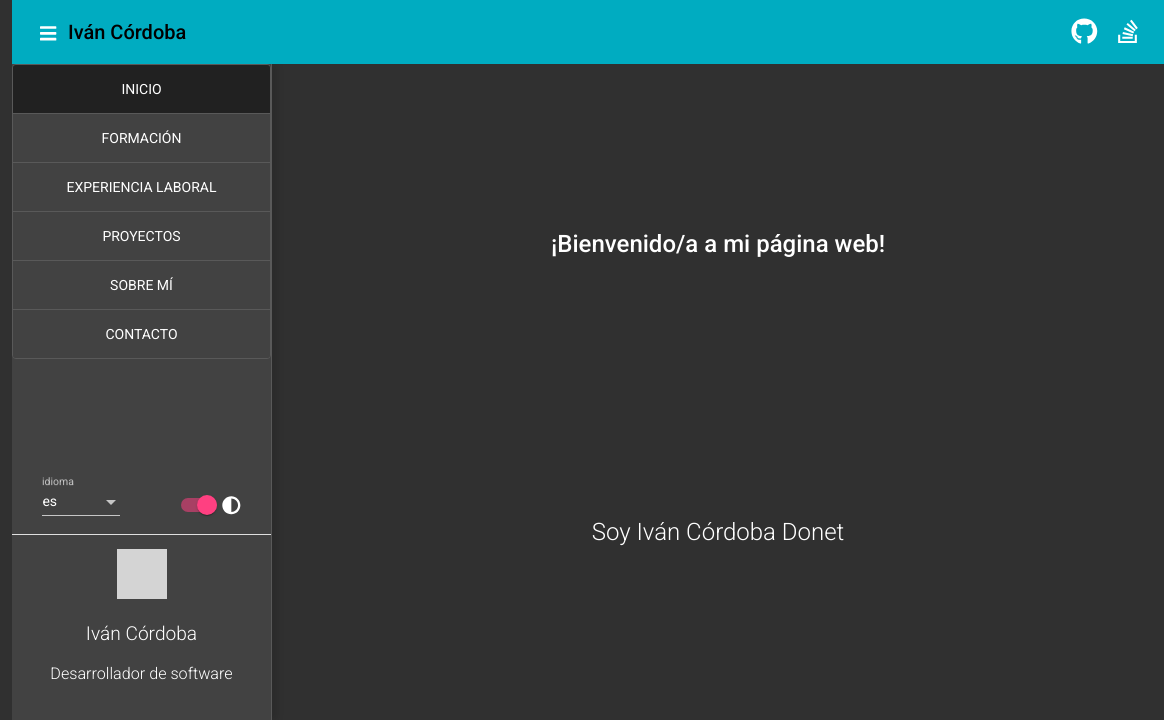
App › should change language to catalan
Click the dropdown with test id "languageSelect": (50, 501) [42,494,120,510]
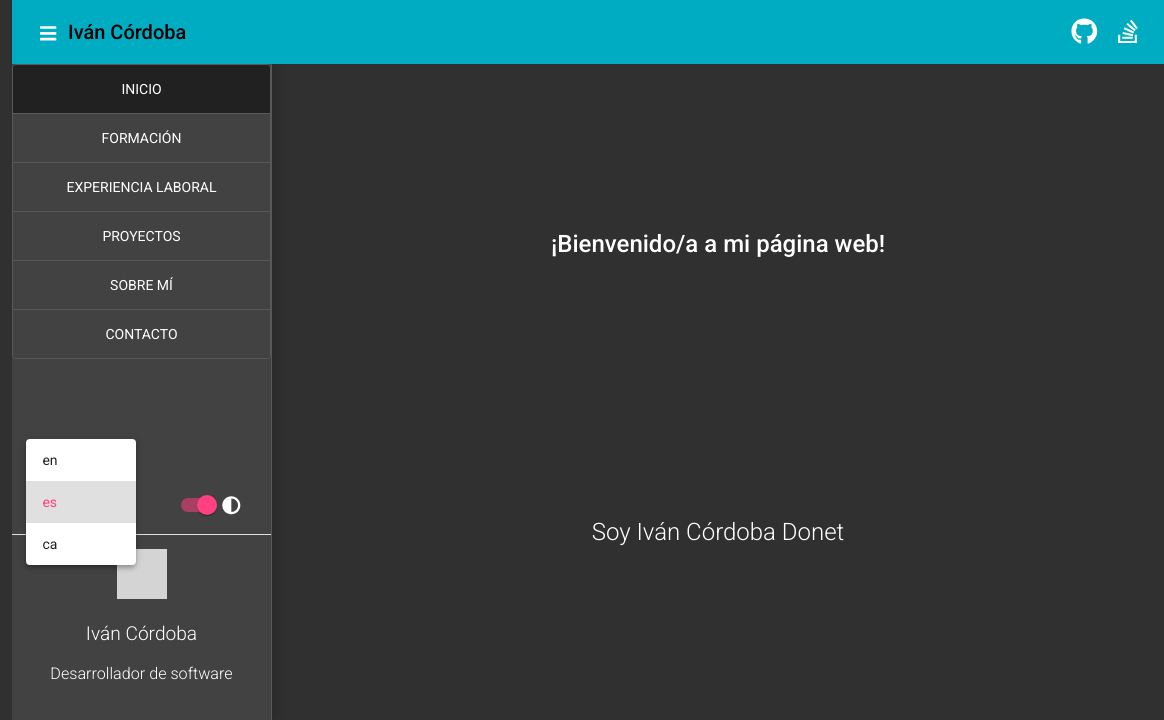
Click the text "ca": (50, 544) [42,536,57,552]
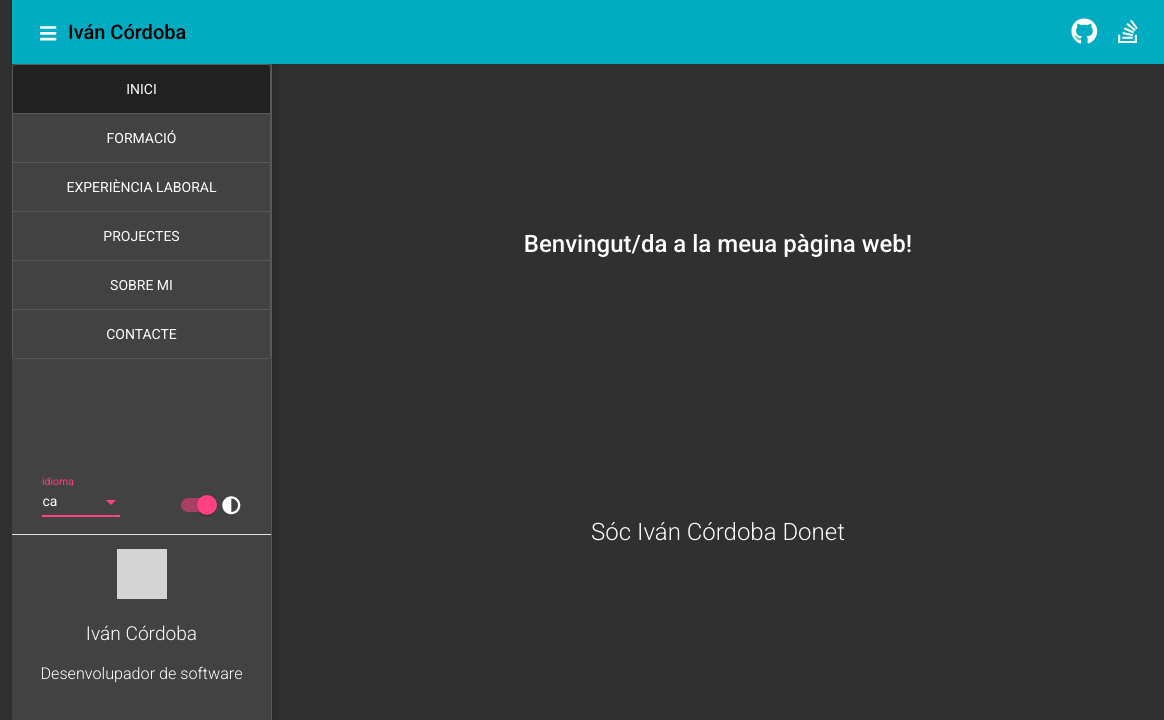
Result: the text "ca" is shown at [42,494,57,509]
